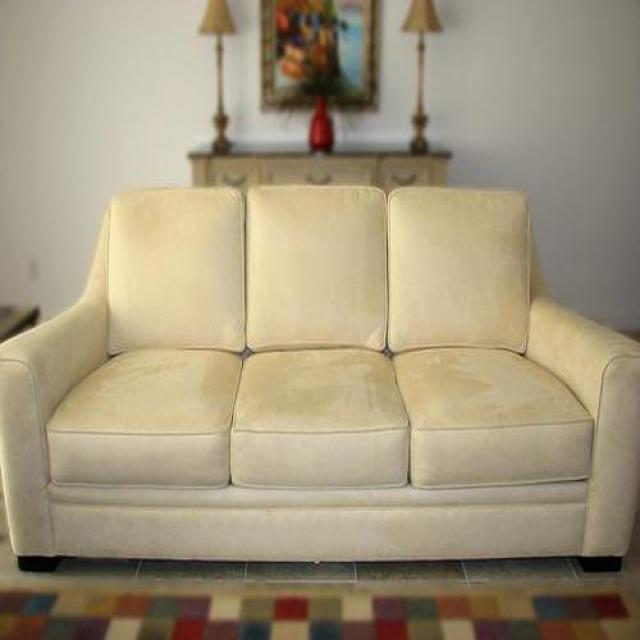sofa: (0, 183, 640, 575)
